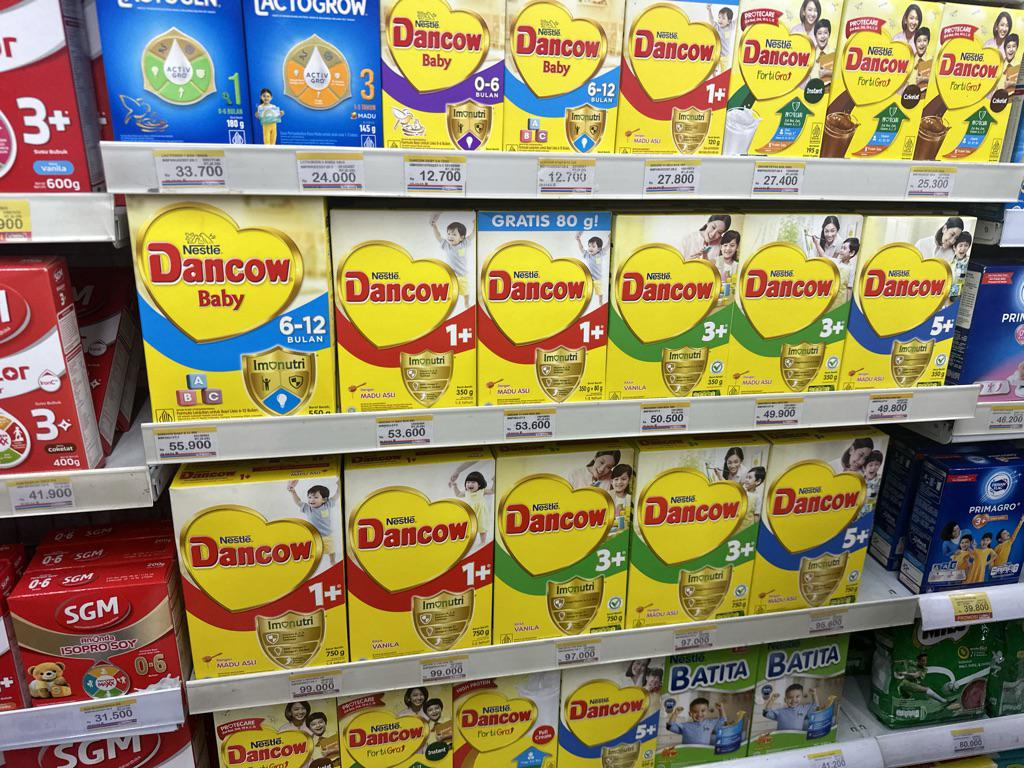DANCOW 1+ Madu Advn ExcNutr 24x400g N1 ID_REDESIGN3: (332, 209, 478, 410)
DANCOW 1+ Madu Advn ExcNutr 40x200g ID_REDESIGN3: (476, 231, 608, 404)
DANCOW 1+ Van Advn ExcNutr 12x800g N1 ID_REDESIGN3: (177, 479, 350, 671), (347, 463, 494, 654)
DANCOW 3+ Madu Advn ExcNutr 12x800g ID_REDESIGN3: (629, 449, 754, 623)
DANCOW 3+ Madu Advn ExcNutr 24x400g ID_REDESIGN3: (733, 214, 851, 394)
DANCOW 3+ Van Advn ExcNutr 12x800g ID_REDESIGN3: (494, 454, 631, 638)
DANCOW 3+ Van Advn ExcNutr 24x400g ID_REDESIGN3: (608, 212, 735, 402)
DANCOW 5+ Madu Advn ExcNutr 12x800g ID_REDESIGN3: (755, 441, 872, 611)
DANCOW 5+ Madu Advn ExcNutr 24x400g ID_REDESIGN3: (849, 217, 964, 390)
LACTOGEN 1 Happynutri 24x350g N1 ID_REDESIGN2: (102, 0, 252, 145)
LACTOGEN 1 Happynutri 40x180g N1 ID_REDESIGN2: (99, 0, 250, 149)
